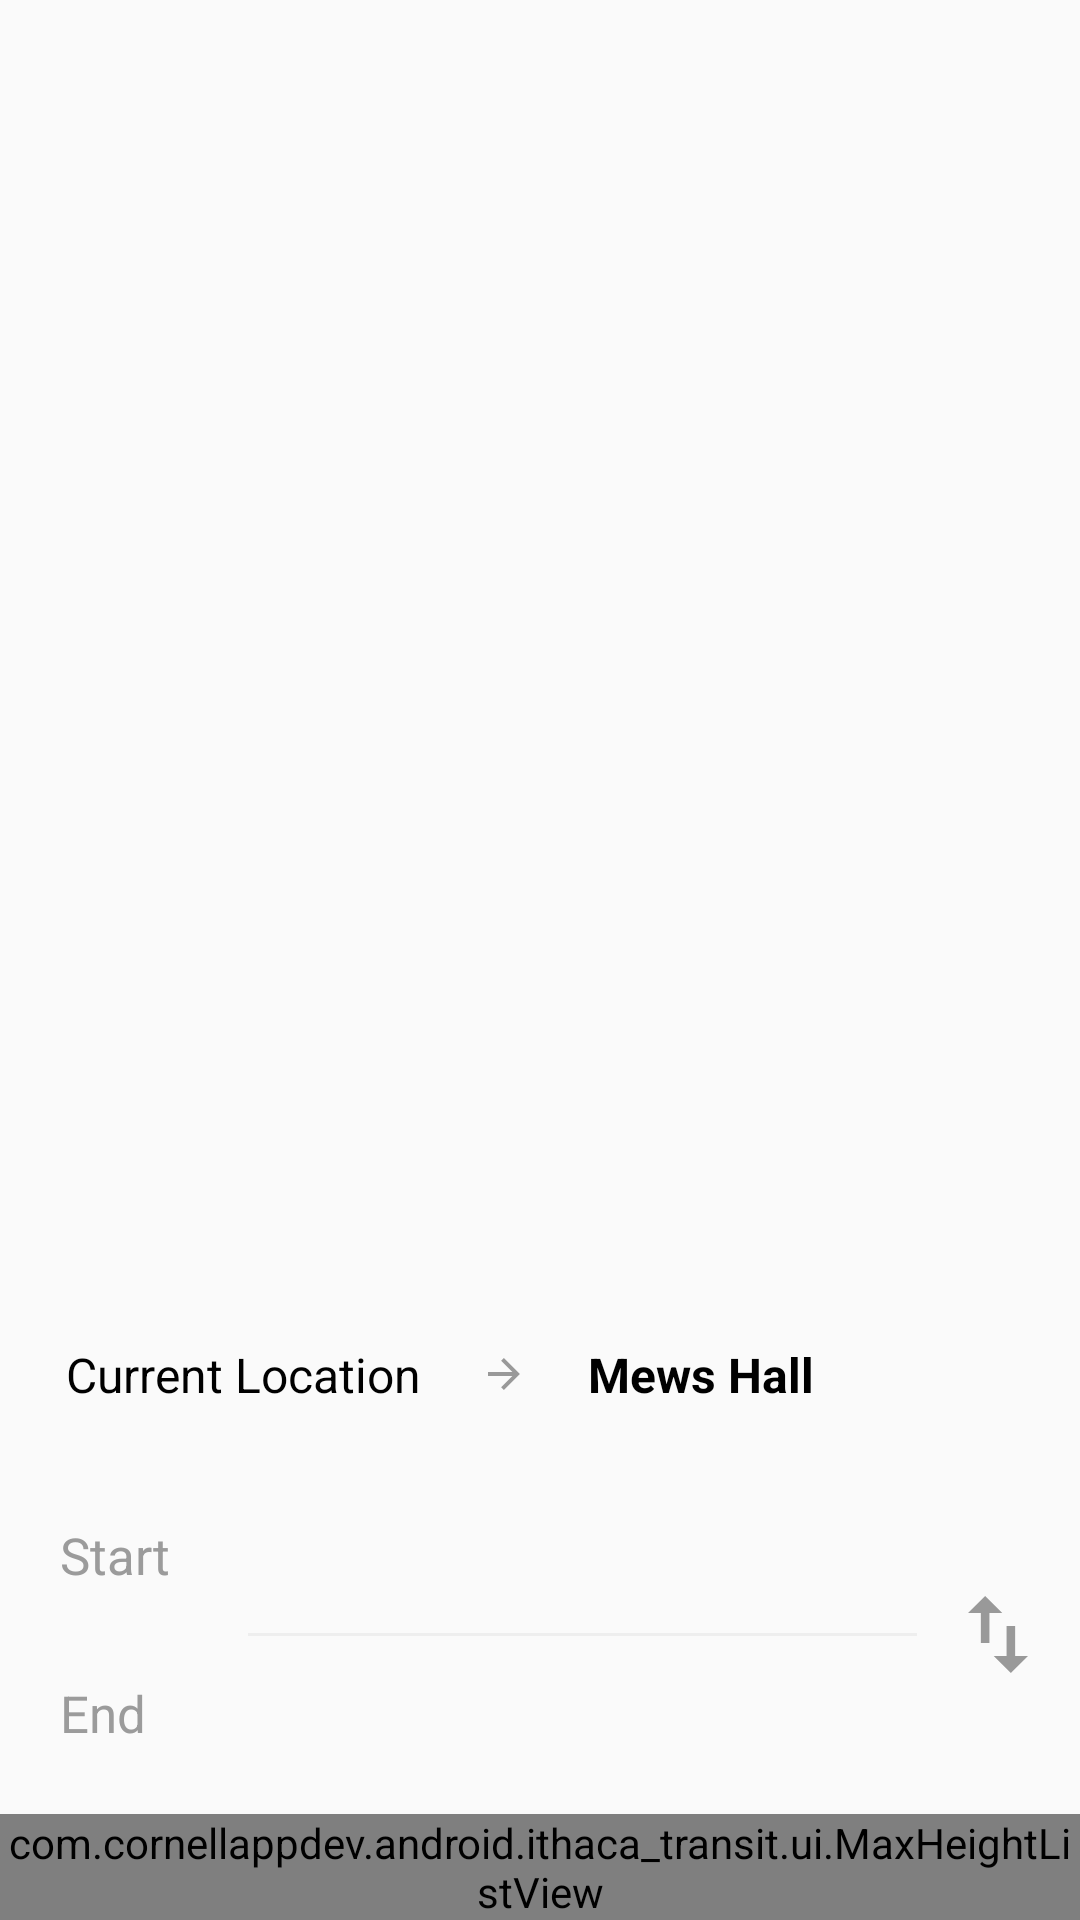

Named icons in this screenshot (1080 x 1920) and their centers, point (x, y):
rightarrow: point (504, 1374)
switch: point (998, 1634)
